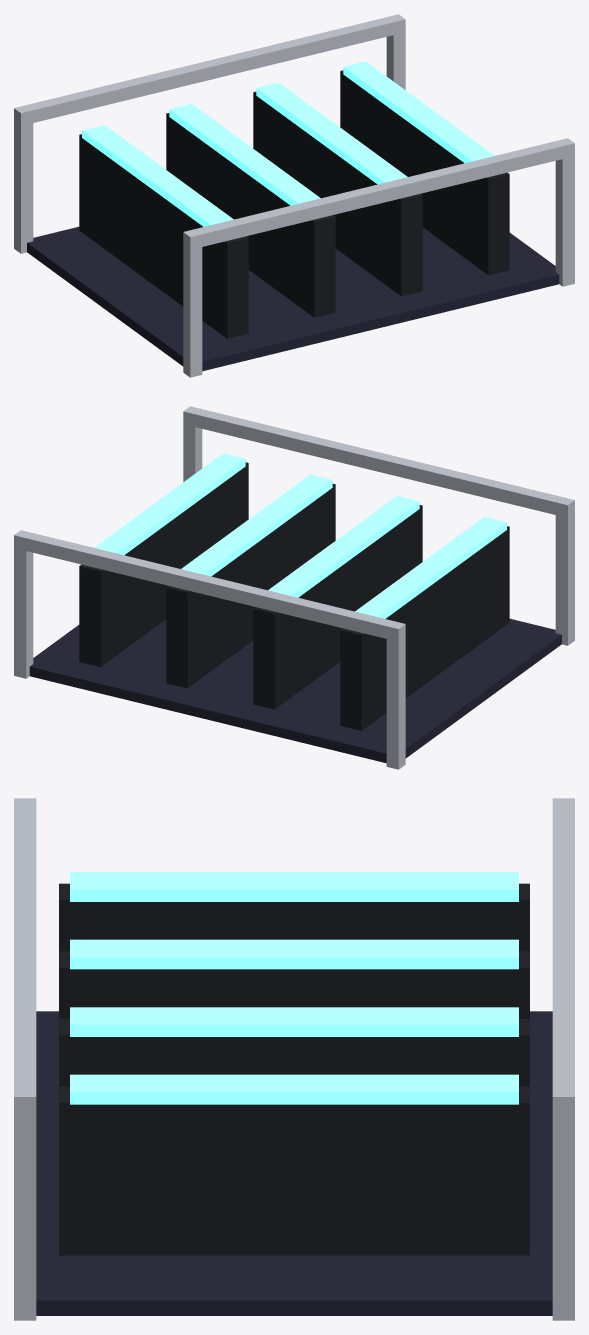
File: station_buffer_ausstattung_2_1.glb
3 views of the same model, one above another, from view 1: azimuth 30°, elevation 25°; view 2: azimuth 150°, elevation 25°; view 3: azimuth 270°, elevation 25° (orthographic). The views are drawn at different scales.
Visible parts, largest first — view 1: station_buffer_ausstattung_2_1; view 2: station_buffer_ausstattung_2_1; view 3: station_buffer_ausstattung_2_1.
Part boxes in pixels (x1,y1,x2,y2): station_buffer_ausstattung_2_1: (14,14,574,377); station_buffer_ausstattung_2_1: (14,406,574,769); station_buffer_ausstattung_2_1: (14,798,574,1320).
Bounding box in the file's own units: 0.63 × 0.22 × 0.5.
